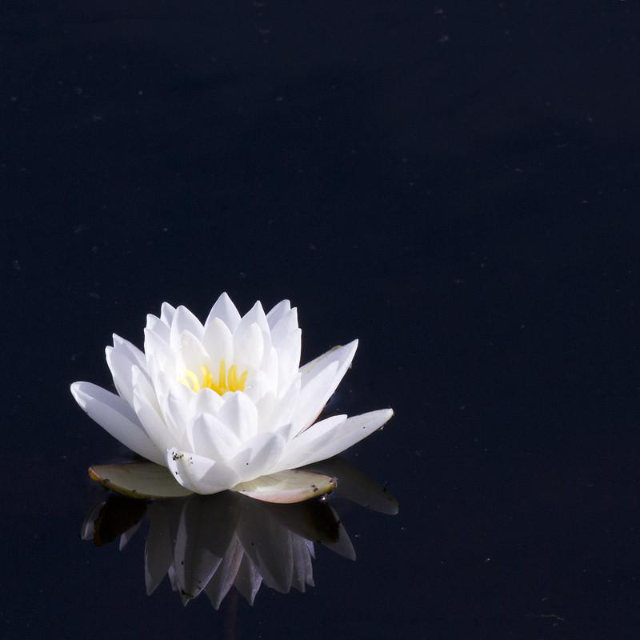water_lily: (63, 287, 395, 525)
